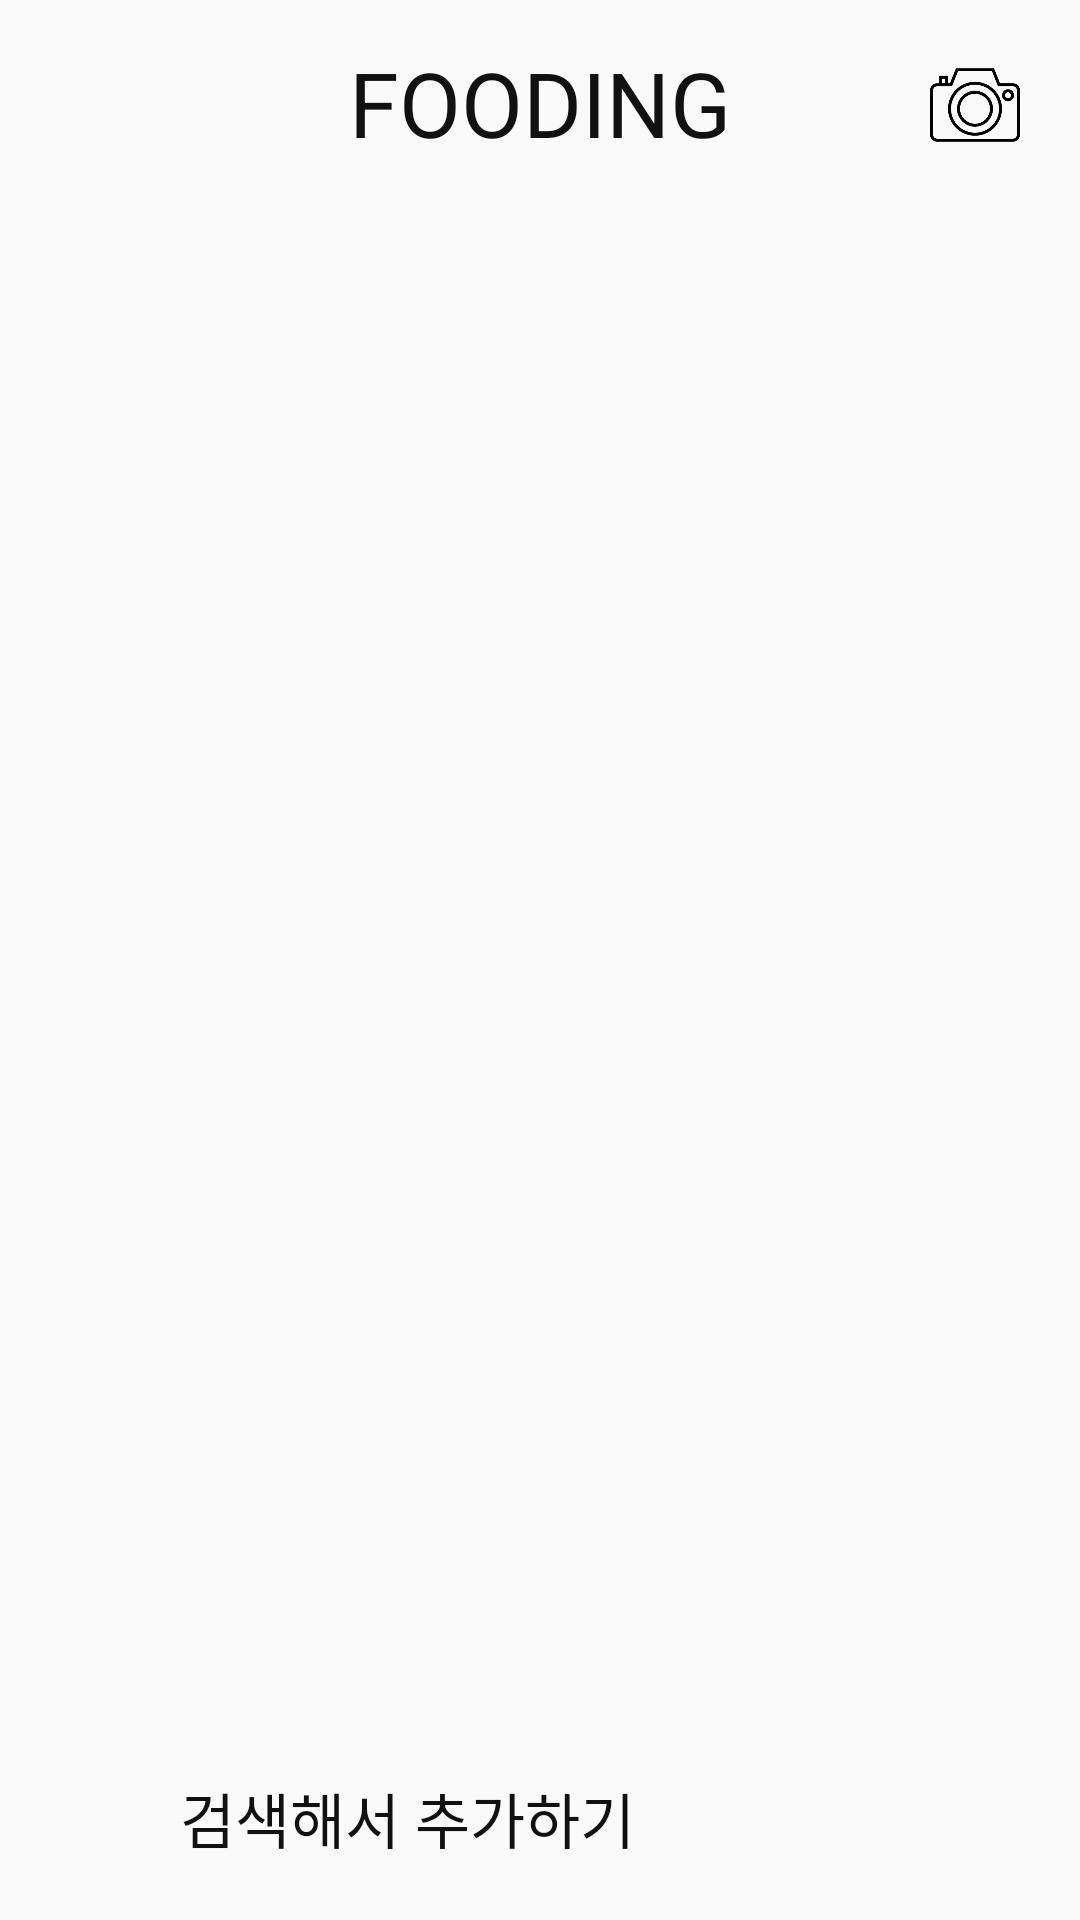

Icons on this 1080x1920 Android screen, each with the point to tap as (x=x, y=y):
camera: (x=975, y=105)
